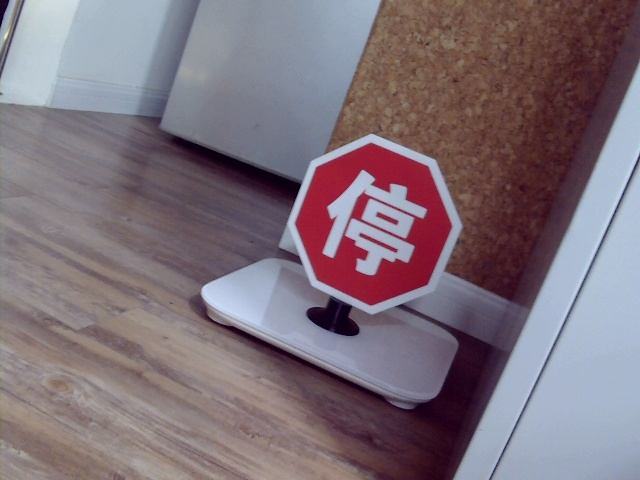stop: (323, 169, 429, 281)
